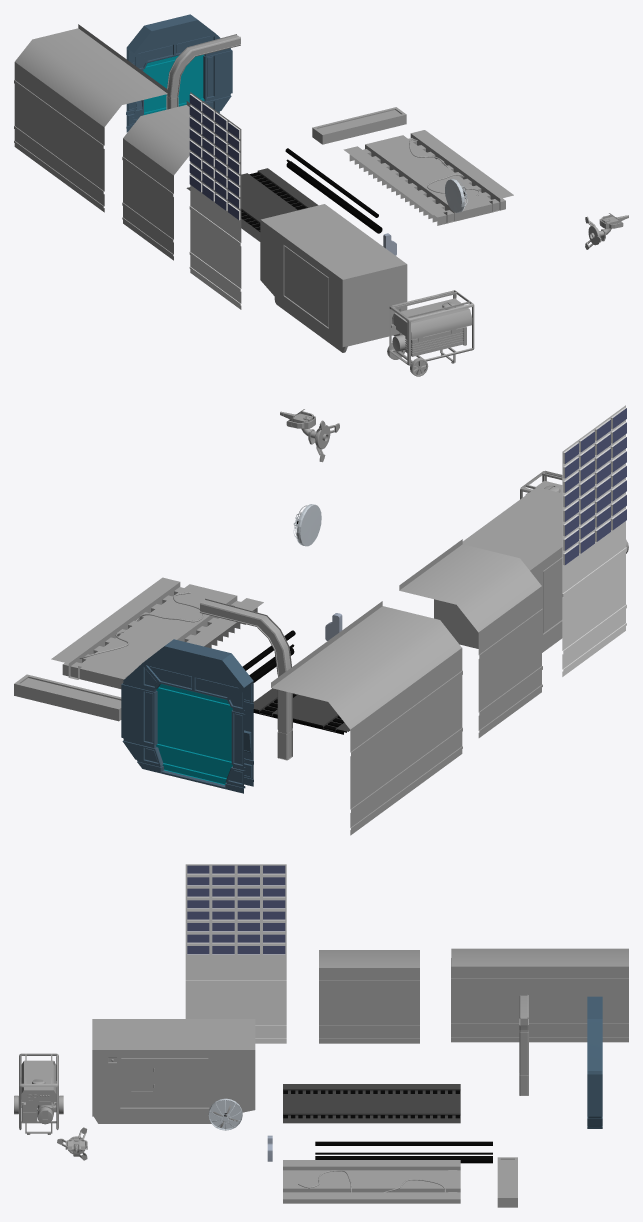
Rendered from futuristic_props.fbx.
The picture shows the model from 3 angles, top to bottom: view 1: azimuth 30°, elevation 25°; view 2: azimuth 150°, elevation 25°; view 3: azimuth 270°, elevation 25°; orthographic projection. The views are drawn at different scales.
Visible parts, largest first — view 1: wall, generator, wall_fakewindow, ground_cable, wall_divise, generator_porta, door_wall, ground, door, demark_ground, grp_tuyau, pillar (+1 smaller); view 2: wall, wall_fakewindow, wall_divise, door_wall, ground_cable, generator, door, pillar, demark_ground, ground, decor_ventilation, grp_tuyau; view 3: wall_fakewindow, generator, wall, wall_divise, ground_cable, ground, generator_porta, grp_tuyau, door_wall, demark_ground, pillar, decor_ventilation.
Boxes of the visible parts, box(x1,y1,x2,y2) form: wall: box(14, 24, 167, 212); generator: box(260, 204, 407, 352); wall_fakewindow: box(189, 92, 241, 309); ground_cable: box(343, 130, 513, 225); wall_divise: box(122, 101, 190, 260); generator_porta: box(387, 290, 474, 376); door_wall: box(126, 14, 232, 132); ground: box(186, 168, 318, 241); door: box(143, 54, 204, 115); demark_ground: box(312, 107, 406, 144); grp_tuyau: box(285, 148, 382, 233); pillar: box(166, 34, 240, 109); wall: box(271, 601, 462, 835); wall_fakewindow: box(562, 405, 626, 676); wall_divise: box(399, 539, 542, 737); door_wall: box(121, 639, 253, 793); ground_cable: box(51, 577, 263, 688); generator: box(434, 487, 563, 652); door: box(156, 684, 233, 784); pillar: box(200, 598, 292, 760); demark_ground: box(14, 674, 121, 721); ground: box(253, 688, 350, 734); decor_ventilation: box(293, 504, 321, 546); grp_tuyau: box(242, 630, 295, 682); wall_fakewindow: box(185, 864, 286, 1043); generator: box(92, 1019, 255, 1123); wall: box(451, 948, 628, 1042); wall_divise: box(319, 950, 419, 1043); ground_cable: box(283, 1160, 460, 1203); ground: box(283, 1084, 460, 1123); generator_porta: box(14, 1053, 63, 1134); grp_tuyau: box(315, 1141, 492, 1163); door_wall: box(587, 996, 602, 1128); demark_ground: box(497, 1157, 517, 1207); pillar: box(519, 995, 528, 1095); decor_ventilation: box(208, 1098, 242, 1130).
Bounding box in the file's own units: 1641 × 972 × 2630.
